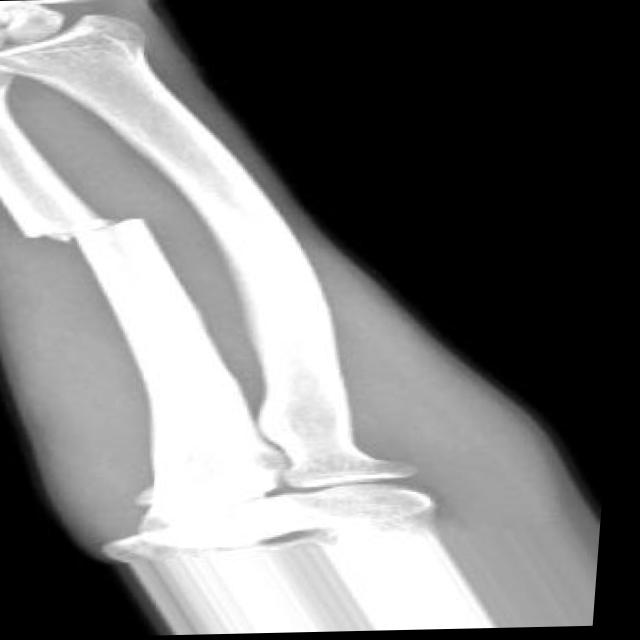fracture: (9, 210, 160, 251)
